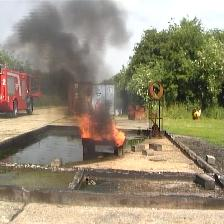fire: (72, 113, 125, 147)
